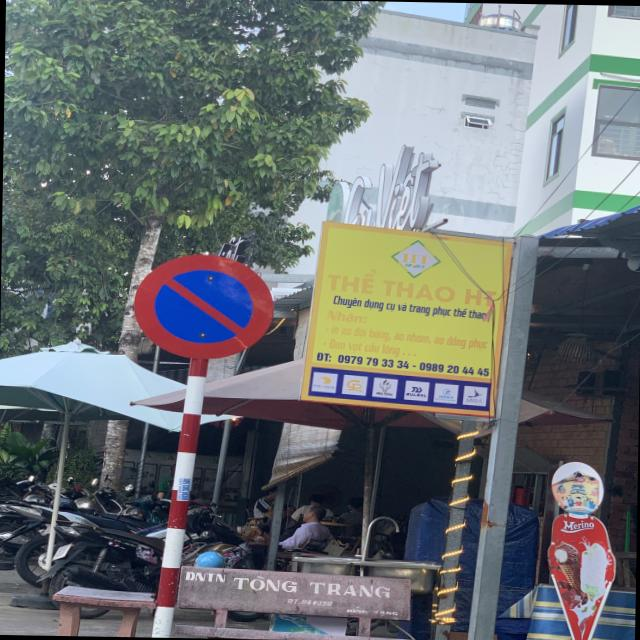Cam_Dau_Xe: (134, 252, 276, 358)
